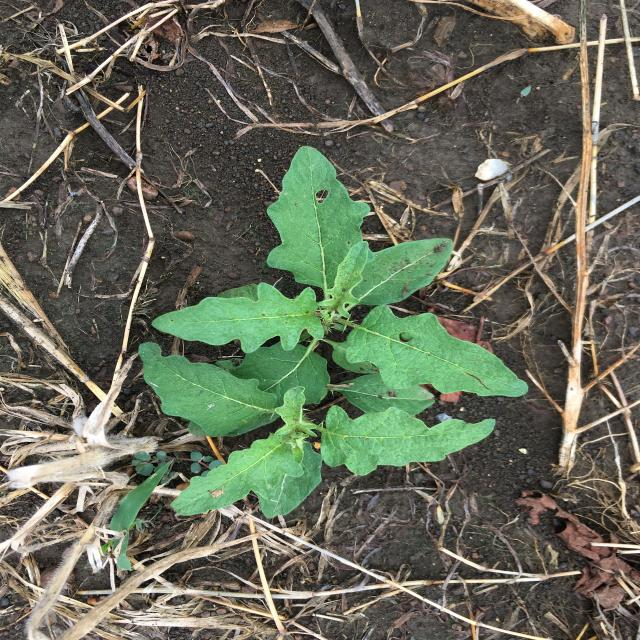SpottedSpurge: (138, 145, 529, 520), (131, 450, 225, 485)
